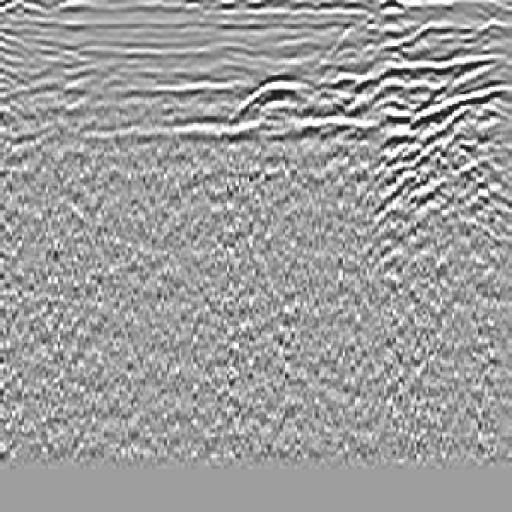metalic: (219, 71, 352, 126)
non-metallic: (366, 17, 508, 207)
